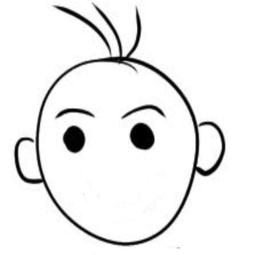ear: (9, 130, 49, 190), (193, 118, 230, 182)
eye: (127, 120, 159, 157), (58, 123, 88, 153)
eyebrow: (112, 100, 168, 122), (51, 107, 101, 120)
